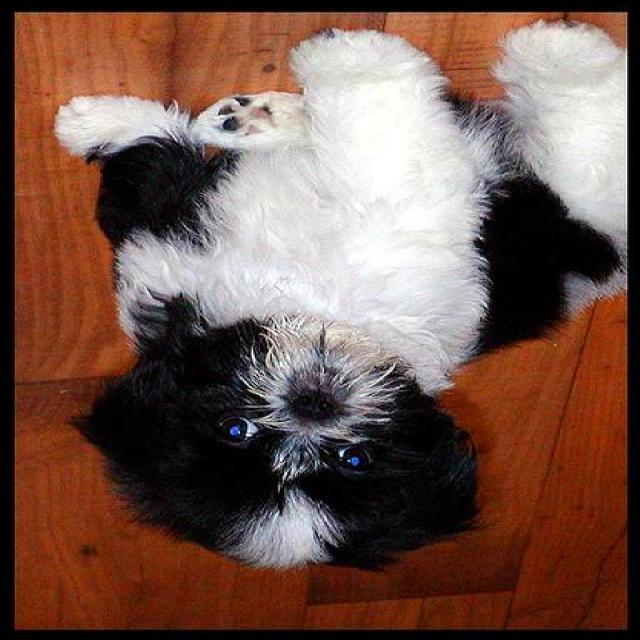shih_tzu: (52, 16, 630, 568)
